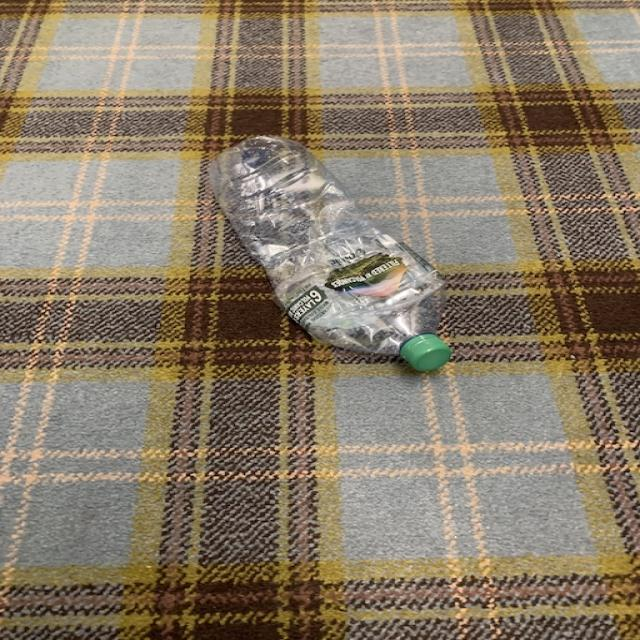Waste: (210, 136, 452, 372)
